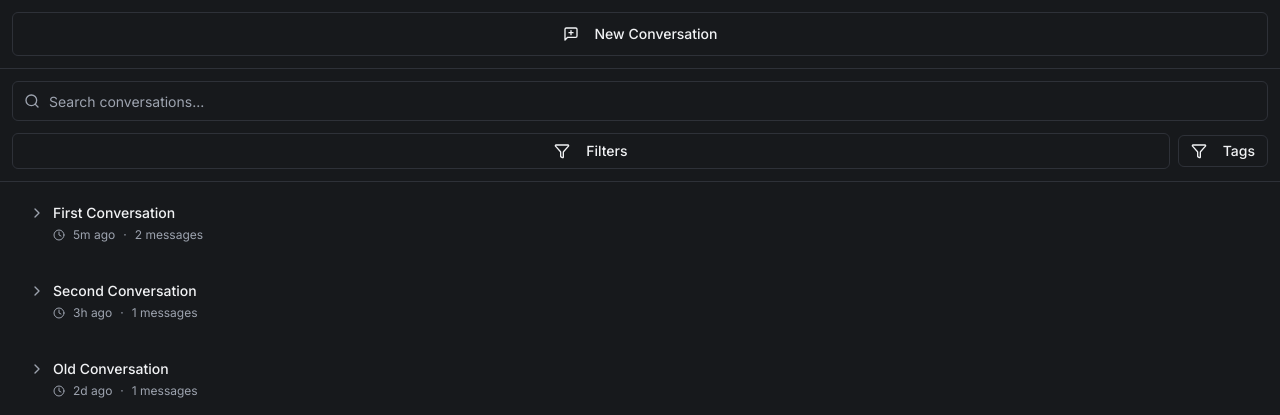
Test case: ConversationHistory › Search functionality › should be case-insensitive
The width and height of the screenshot is (1280, 415).
Type "FIRST" into the field with placeholder "Search conversations..." at {"x": 640, "y": 101}, box top-left (12, 81), bottom-right (1268, 121)
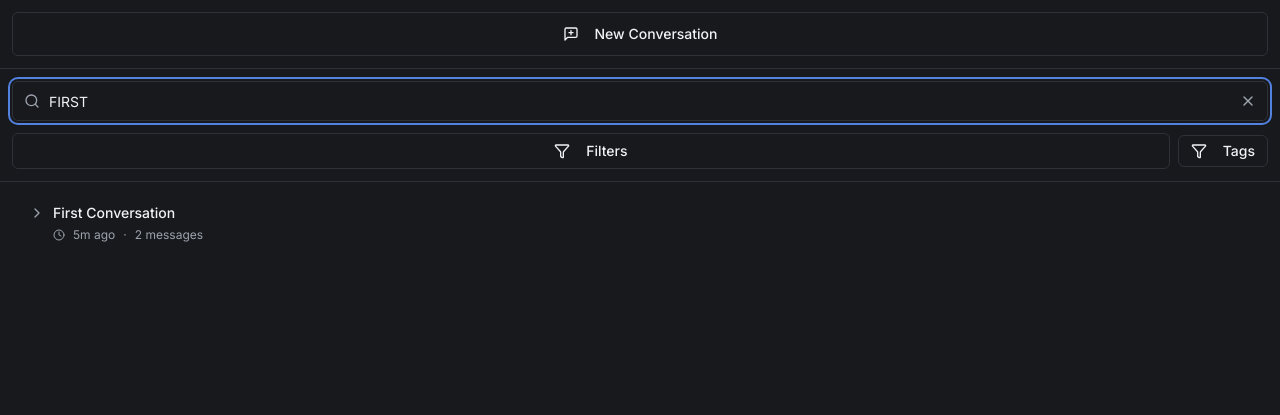
Check: the text "First Conversation" is shown, box top-left (53, 204), bottom-right (175, 221)
Check: the button "Second Conversation" is gone
